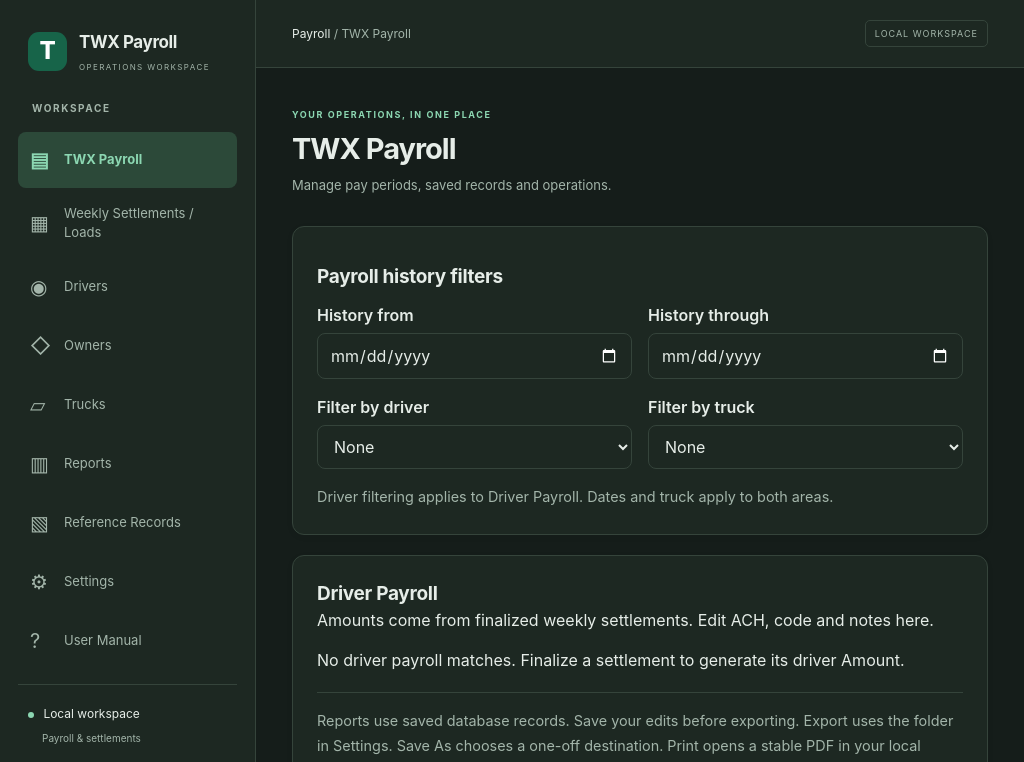
Test case: desktop foundation › keeps the old theme and reports a failed persistence operation
The image size is (1024, 762).
Click the button "⚙ Settings". click: (128, 582)
box: [18, 554, 237, 610]
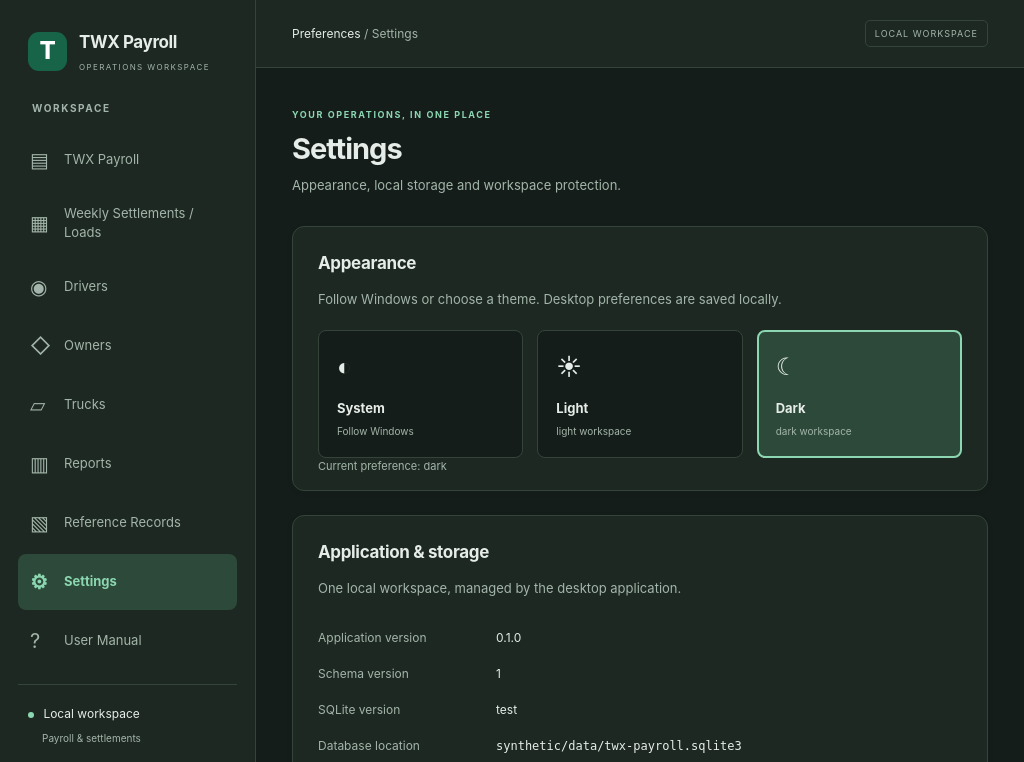
Click the button "☀ Light light workspace". click: (640, 394)
box: [537, 330, 743, 458]
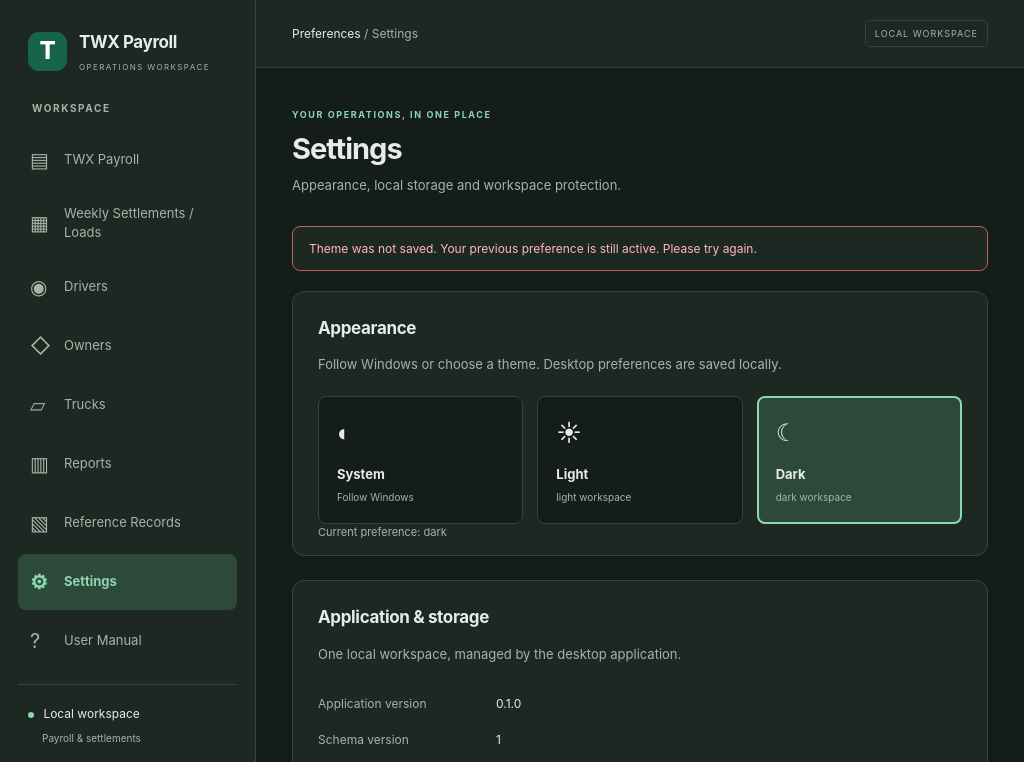
Expected: the 1st message shows "not saved", [309, 241, 757, 256]
